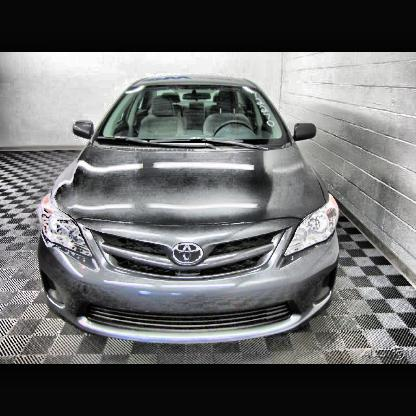Toyota Corolla Sedan 2012: (32, 73, 351, 358)
